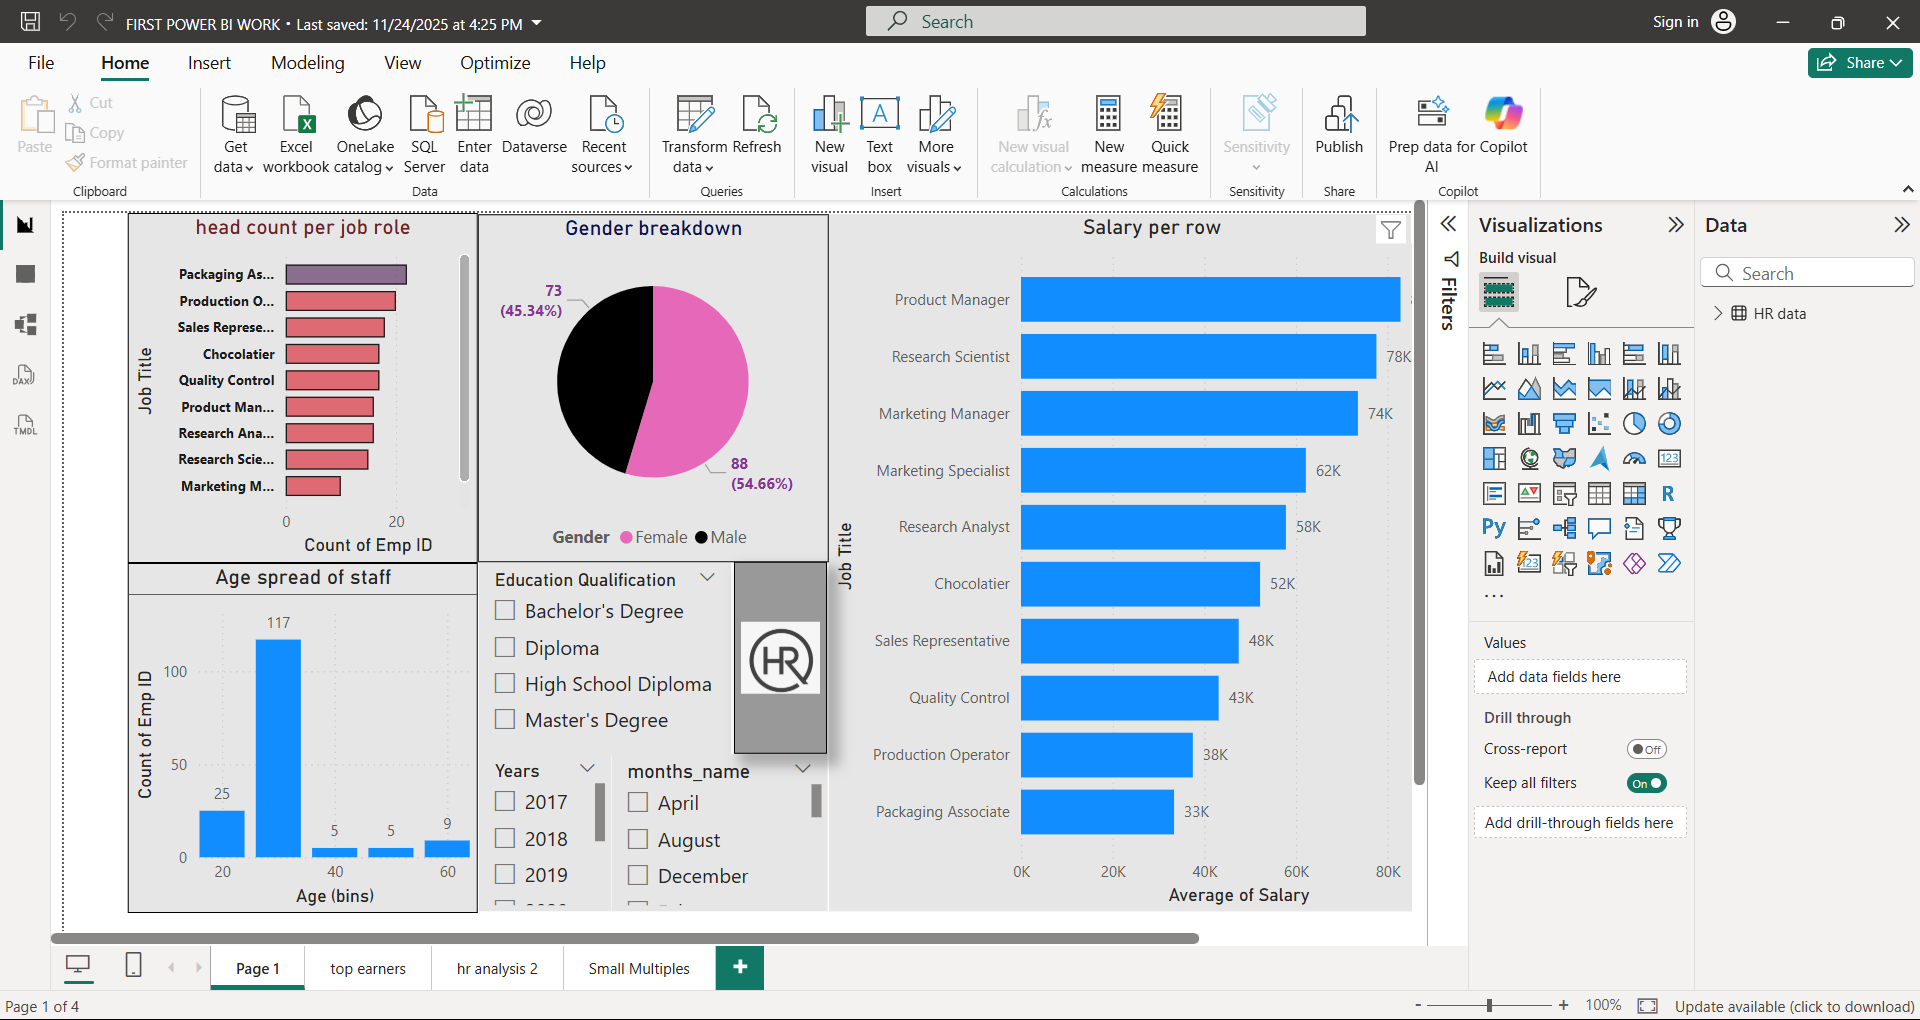

The dashboard page shown, as its layout file describes it:
{"tool":"powerbi","page":{"name":"Page 1","canvas":[1280,720],"ordinal":0},"visuals":[{"type":"clusteredBarChart","title":"head count per job role","fields":{"Category":["HR data.Job Title"],"Y":["CountNonNull(HR data.Emp ID)"]},"box":[50.9,0,280.4,280.4],"z":0},{"type":"pieChart","title":"Gender breakdown","fields":{"Category":["HR data.Gender"],"Y":["CountNonNull(HR data.Emp ID)"]},"box":[331.1,0.6,280.7,279.5],"z":1000},{"type":"clusteredColumnChart","title":" Age spread of staff ","fields":{"Category":["HR data.Age (bins)"],"Y":["CountNonNull(HR data.Emp ID)"]},"box":[50.9,280.4,280.4,279.5],"z":2000},{"type":"clusteredBarChart","title":"Salary per row","fields":{"Category":["HR data.Job Title"],"Y":["Avg(HR data.Salary)"]},"box":[612,1,518,558],"z":3000},{"type":"slicer","fields":{"Values":["HR data.Education Qualification"]},"box":[332,280,202,154],"z":4000},{"type":"slicer","fields":{"Values":["HR data.months_name"]},"box":[437.5,433.3,174,126],"z":5000},{"type":"slicer","fields":{"Values":["HR data.Years"]},"box":[332.3,433.3,105.2,126],"z":6000},{"type":"image","box":[535.6,278.8,75.8,154.1],"z":7000}]}

Visuals, with their boxes on the page's 1280x720 design canvas (x1, y1, x2, y2). These are canvas units, not pixel positions in the 1920x1020 screenshot, which may show the page scaled, cropped or inside an application window:
"head count per job role" clusteredBarChart: pyautogui.locateOnScreen(51, 0, 331, 280)
"Gender breakdown" pieChart: pyautogui.locateOnScreen(331, 1, 612, 280)
" Age spread of staff " clusteredColumnChart: pyautogui.locateOnScreen(51, 280, 331, 560)
"Salary per row" clusteredBarChart: pyautogui.locateOnScreen(612, 1, 1130, 559)
slicer - HR data.Education Qualification: pyautogui.locateOnScreen(332, 280, 534, 434)
slicer - HR data.months_name: pyautogui.locateOnScreen(438, 433, 612, 559)
slicer - HR data.Years: pyautogui.locateOnScreen(332, 433, 438, 559)
image: pyautogui.locateOnScreen(536, 279, 611, 433)
